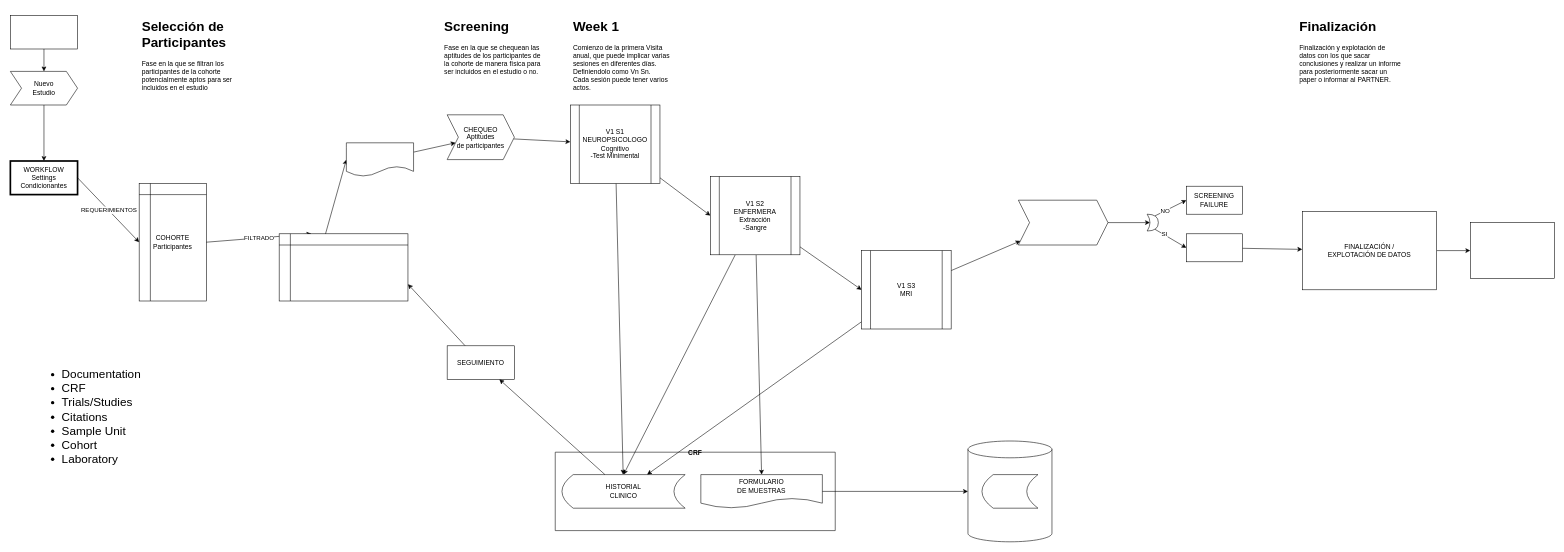
The diagram is 1564 pixels wide and 552 high, and some of its shapes have lost their labels. Each missing label, with the centre of its shape:
"CITACIONES" belongs at pixel 343 267.
"CONSENTIMIENTO INFORMADO" belongs at pixel 380 159.
"EVALUACIÓN DE RESULTADOS" belongs at pixel 1063 222.
"PARTNER / INVESTIGADORES" belongs at pixel 44 32.
"PARTNERS / INVESTIGADORES" belongs at pixel 1512 250.
"SAMPLE UNIT" belongs at pixel 1009 491.
"SCREENING SUCCESS" belongs at pixel 1214 247.
